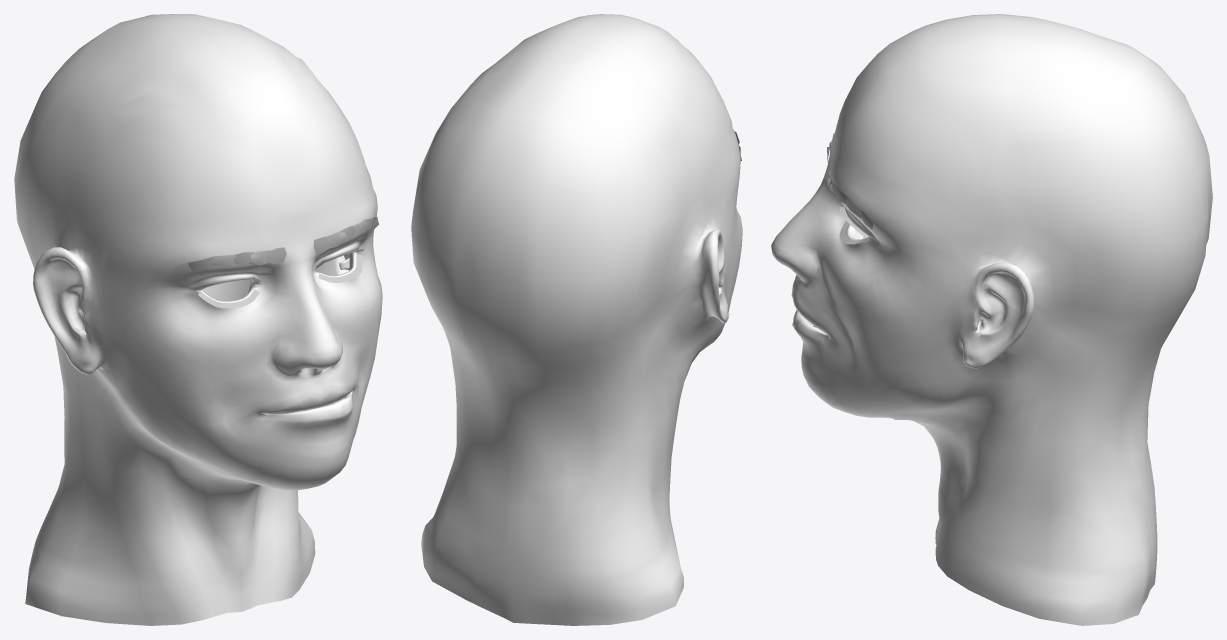
The model's file is jawLeft.obj.
3 renders of one model, left to right at view 1: azimuth 30°, elevation 25°; view 2: azimuth 150°, elevation 25°; view 3: azimuth 270°, elevation 25°, orthographic. The views are drawn at different scales.
Parts seen in each view (by area): view 1: FaceMesh_Plane.003; view 2: FaceMesh_Plane.003; view 3: FaceMesh_Plane.003.
Part boxes in pixels (x1,y1,x2,y2): FaceMesh_Plane.003: [14, 14, 382, 625]; FaceMesh_Plane.003: [411, 14, 742, 625]; FaceMesh_Plane.003: [771, 14, 1212, 625].
Size of the model in its own units: 1.54 by 2.71 by 1.94.
Materials: 5 (1 with a texture image).
